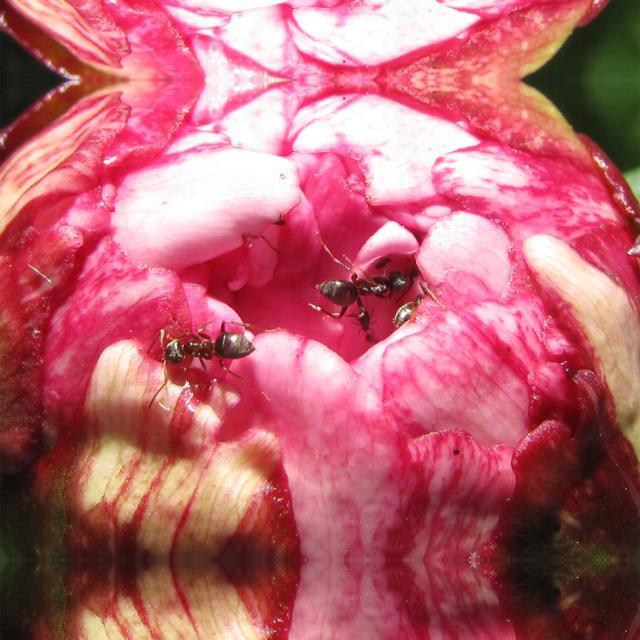Lasius: (148, 307, 262, 379), (310, 240, 406, 316)
